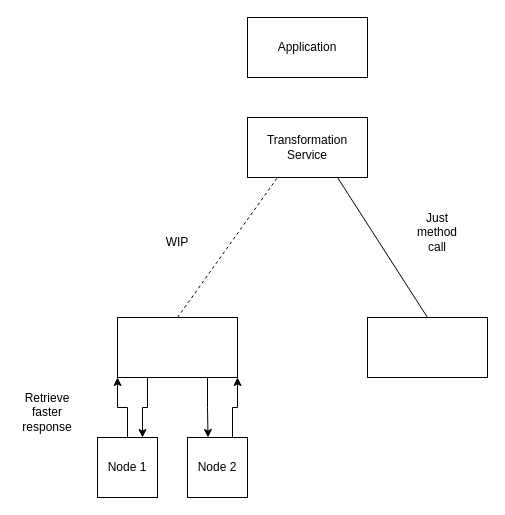
This 505x515 diagram has some shape labels left out. Each missing label, with the box of its shape:
Local Computation: (366, 316, 488, 378)
Remote Computation: (116, 316, 238, 378)
